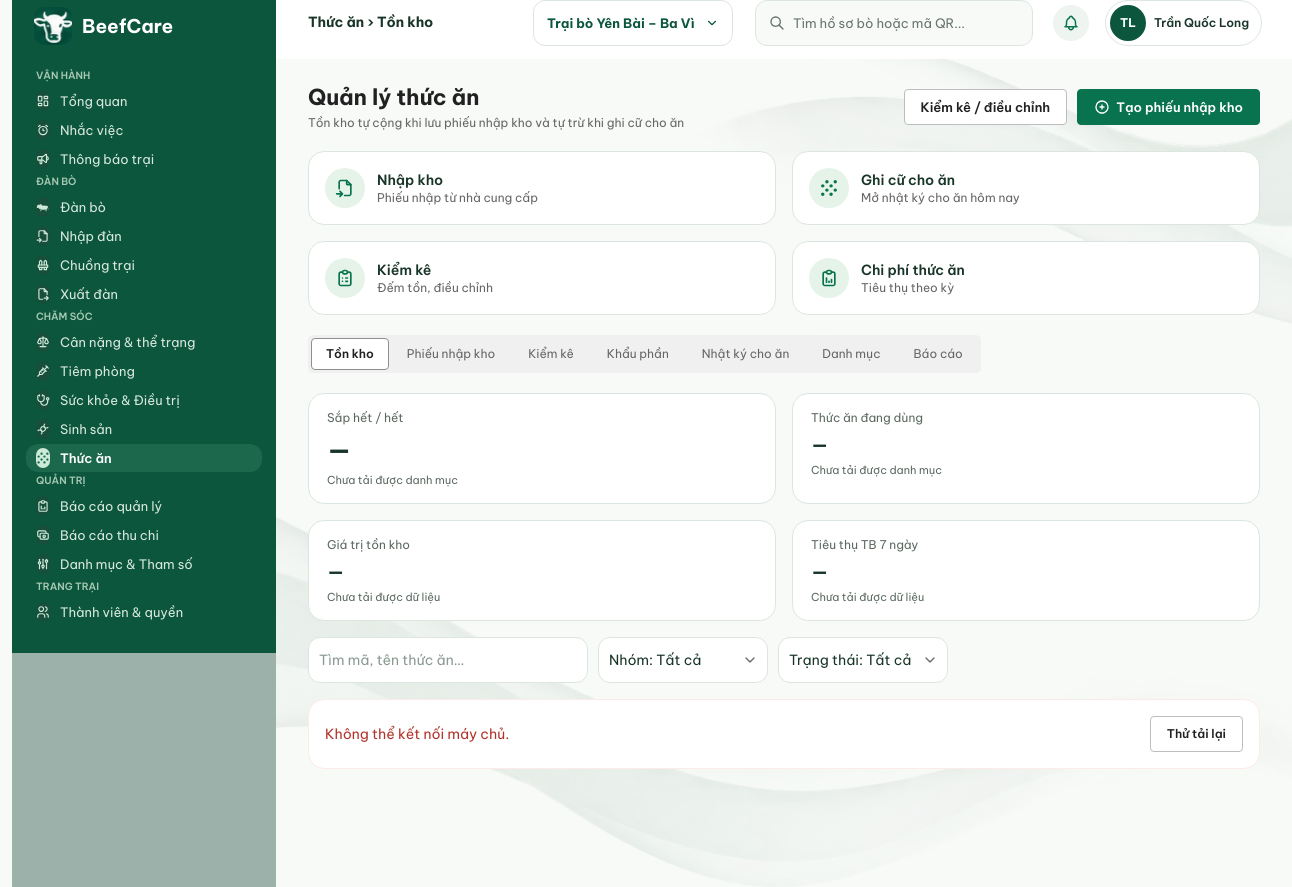
Test: SCR-77 Feed Stock page › offers retry after backend error and shows recovered rows only after retry succeeds
Check: the message shows "Không thể kết nối máy chủ.", box [325,725,509,743]
Check: the row "TA-01" is not shown
Click the button "Thử tải lại". click: (1196, 734)
box: [1150,716,1243,752]
(page scrolled)
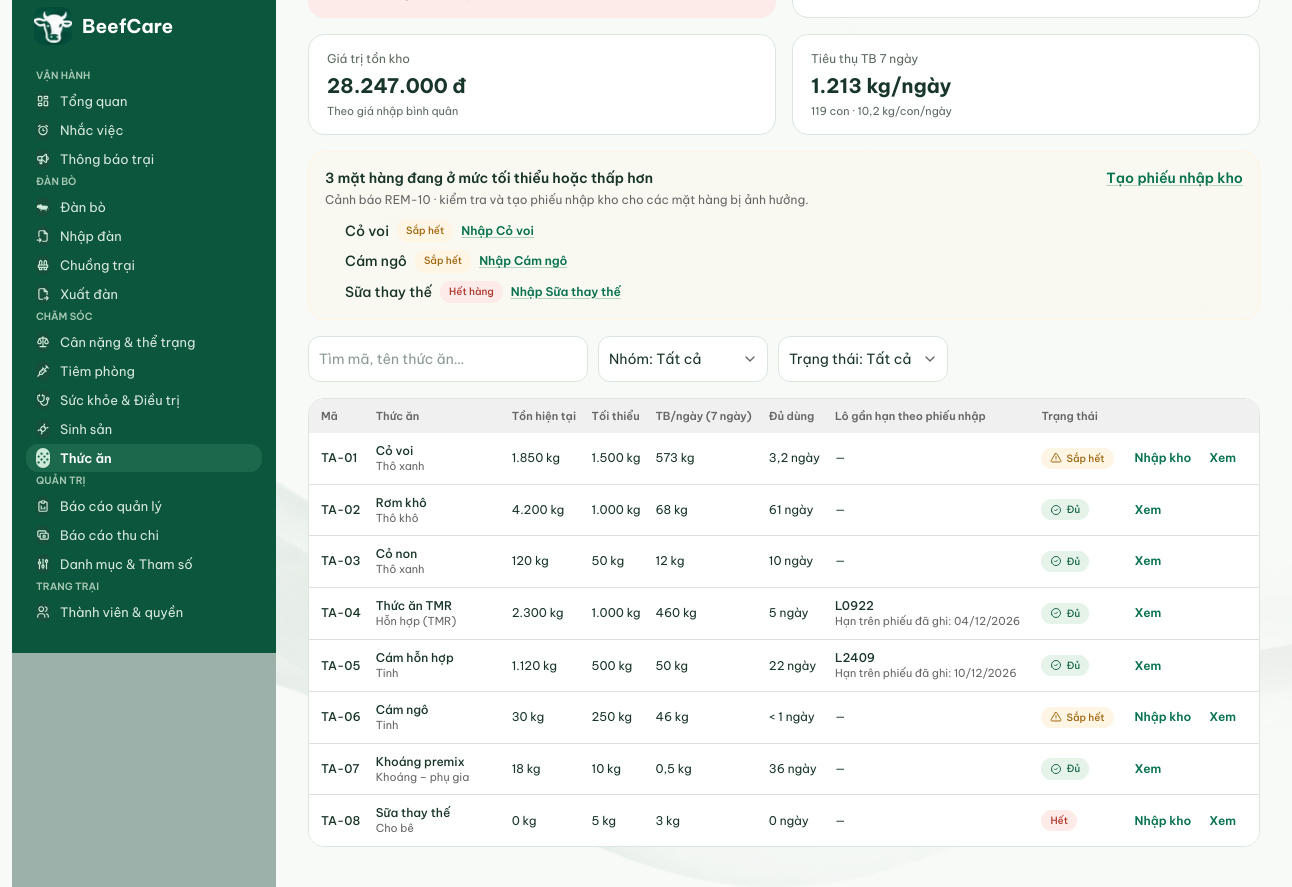
Check: the row "TA-01" is shown, box [309,433,1259,484]
